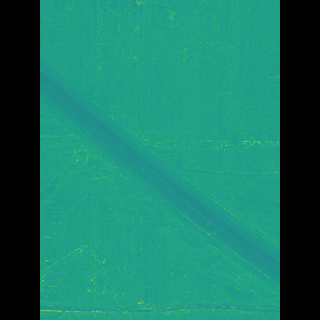Loch: (69, 57, 250, 299), (69, 292, 250, 318)
